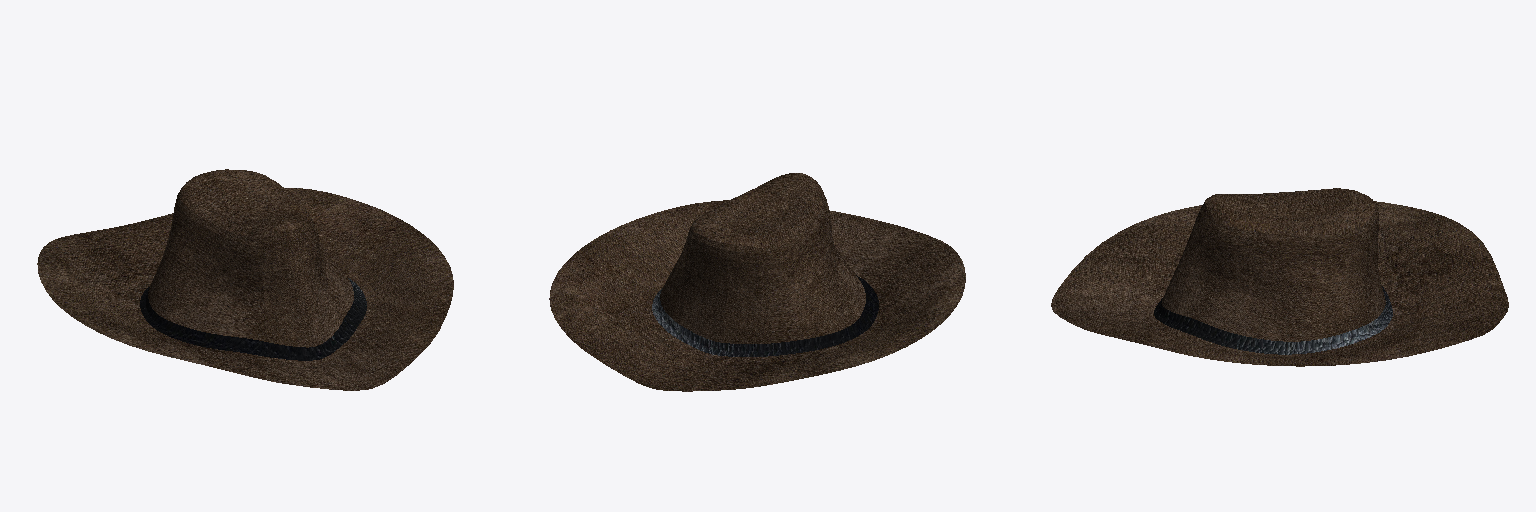
3 views of the same model, side by side, from view 1: azimuth 30°, elevation 25°; view 2: azimuth 150°, elevation 25°; view 3: azimuth 270°, elevation 25° (orthographic).
Parts seen in each view (by area): view 1: cowboyhatOBJ2:Mesh; view 2: cowboyhatOBJ2:Mesh; view 3: cowboyhatOBJ2:Mesh.
Boxes of the visible parts, x1=… form: cowboyhatOBJ2:Mesh: x1=37, y1=169, x2=453, y2=390; cowboyhatOBJ2:Mesh: x1=549, y1=173, x2=965, y2=391; cowboyhatOBJ2:Mesh: x1=1051, y1=188, x2=1508, y2=366.
Size of the model in its own units: 0.4669 by 0.1474 by 0.5317.
1 materials, 1 textured.